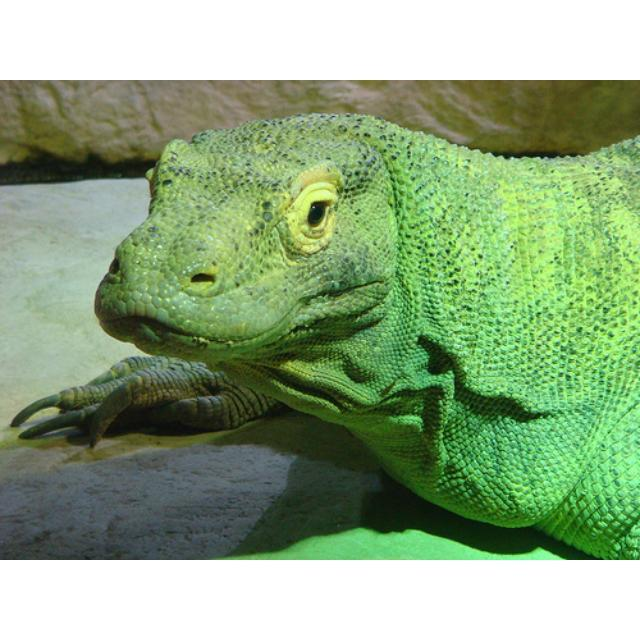KomodoDragon: (9, 109, 637, 557)
